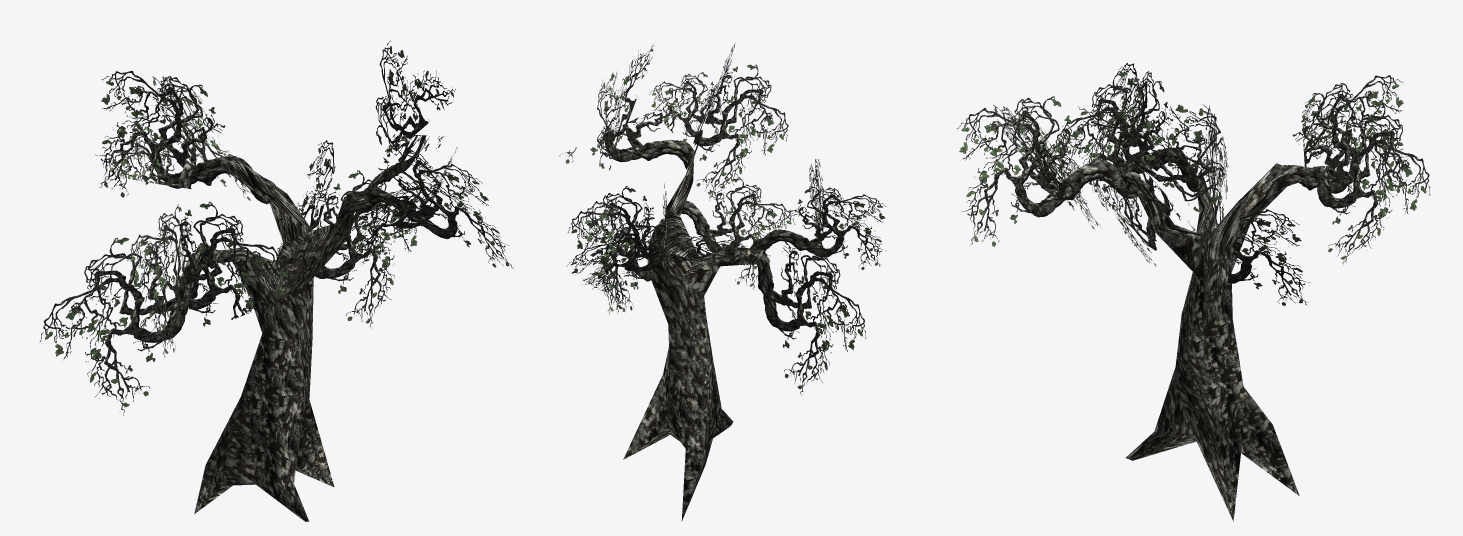
The model's file is decd_dath_azerontree_l2.fbx.
The picture shows the model from 3 angles, left to right: view 1: azimuth 30°, elevation 25°; view 2: azimuth 150°, elevation 25°; view 3: azimuth 270°, elevation 25°; orthographic projection. The views are drawn at different scales.
Parts seen in each view (by area): view 1: mesh_node; view 2: mesh_node; view 3: mesh_node.
Boxes of the visible parts, x1,y1,x2,y2 form: mesh_node: [39, 40, 513, 521]; mesh_node: [559, 43, 886, 521]; mesh_node: [956, 63, 1430, 521].
Size of the model in its own units: 24.37 by 27.07 by 26.09.
2 materials, 2 textured.
